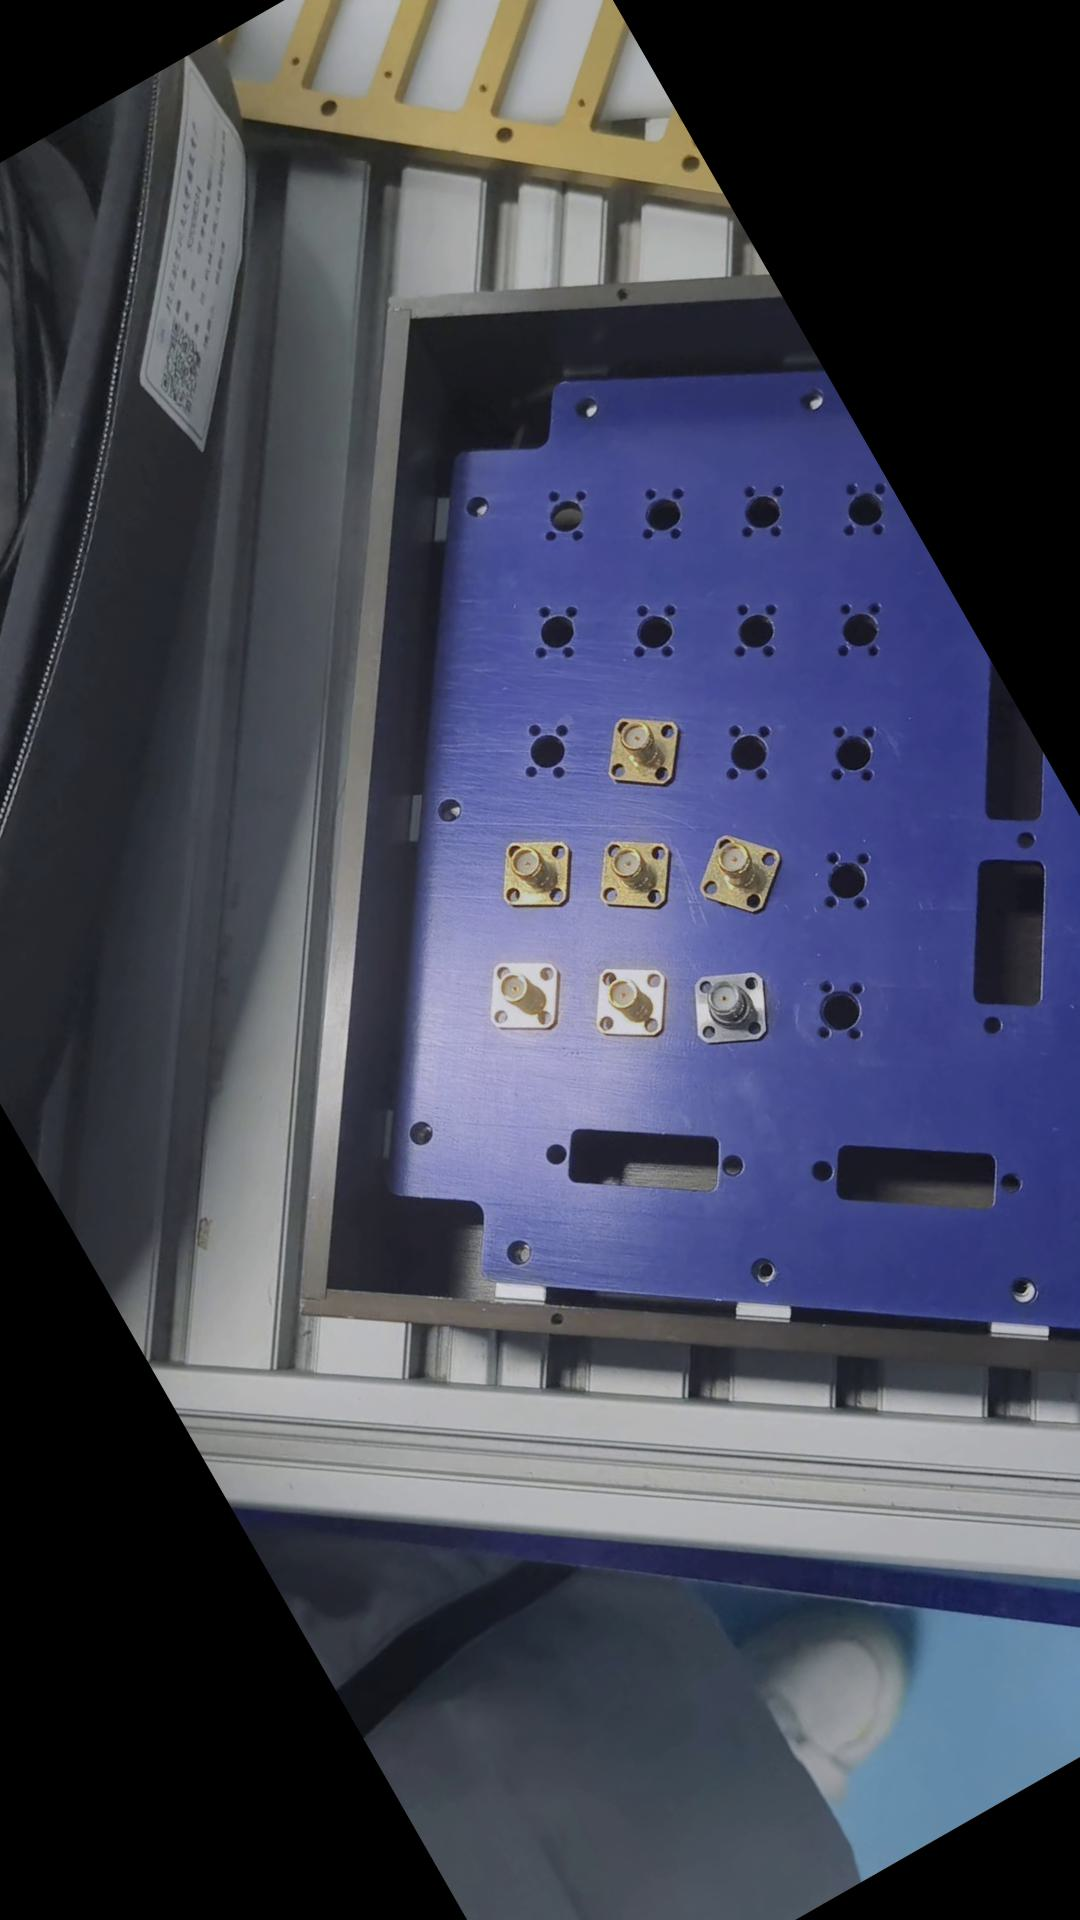SMA: (673, 945, 793, 1069), (686, 811, 804, 928), (582, 810, 696, 928), (579, 939, 692, 1055), (589, 695, 703, 807), (469, 938, 580, 1051), (484, 814, 595, 926)
